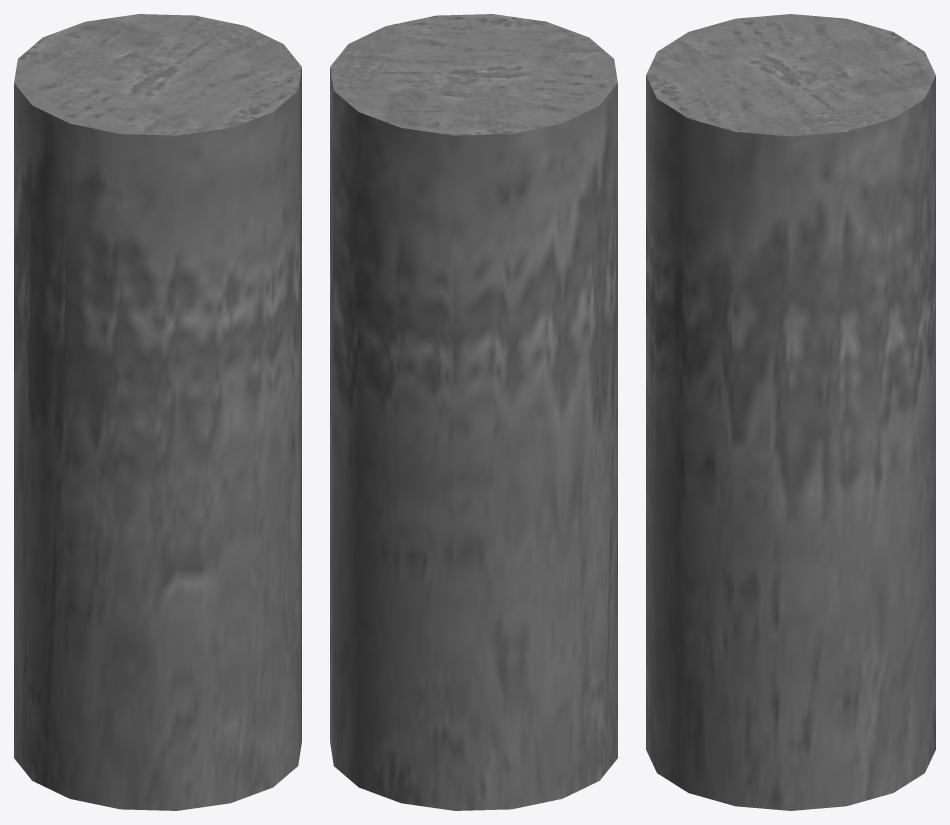
Rendered from icub_neck_1.dae.
The picture shows the model from 3 angles, left to right: view 1: azimuth 30°, elevation 25°; view 2: azimuth 150°, elevation 25°; view 3: azimuth 270°, elevation 25°; orthographic projection.
Parts seen in each view (by area): view 1: neck_1_mesh; view 2: neck_1_mesh; view 3: neck_1_mesh.
Boxes of the visible parts, bbox=[...] form: neck_1_mesh: bbox=[14, 14, 301, 810]; neck_1_mesh: bbox=[330, 14, 617, 810]; neck_1_mesh: bbox=[646, 14, 935, 810].
Size of the model in its own units: 0.03 by 0.03 by 0.077.
1 material, 1 textured.
